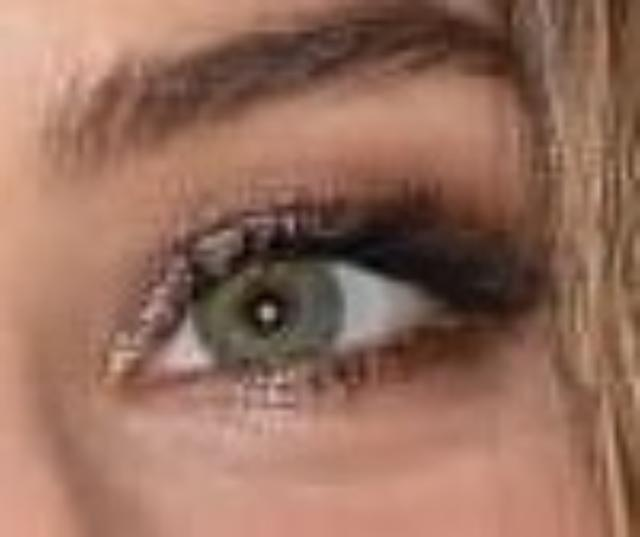eye: (186, 233, 346, 371)
